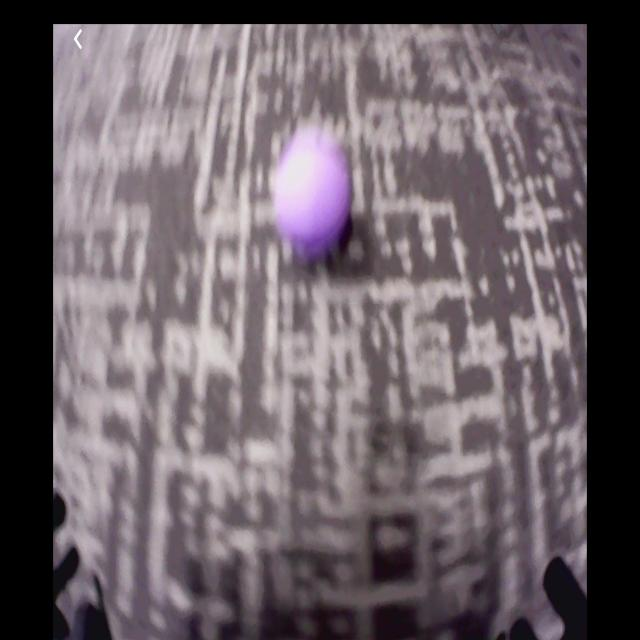ball: (277, 145, 349, 250)
